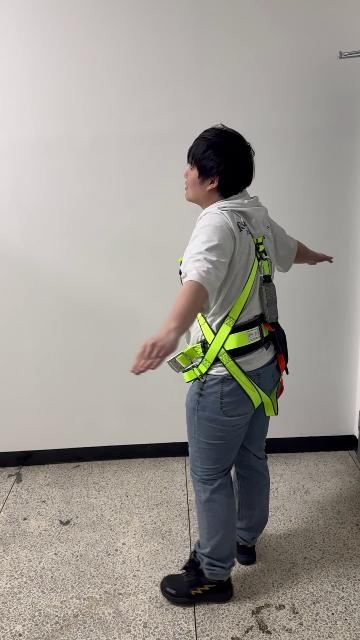helmet_not_worn: (183, 128, 257, 202)
shoe_worn: (160, 553, 232, 604), (235, 540, 256, 565)
vest_worn: (167, 229, 285, 413)
